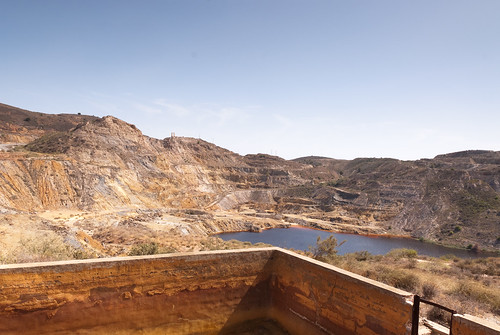river: (223, 218, 474, 271)
sky: (3, 1, 499, 146)
